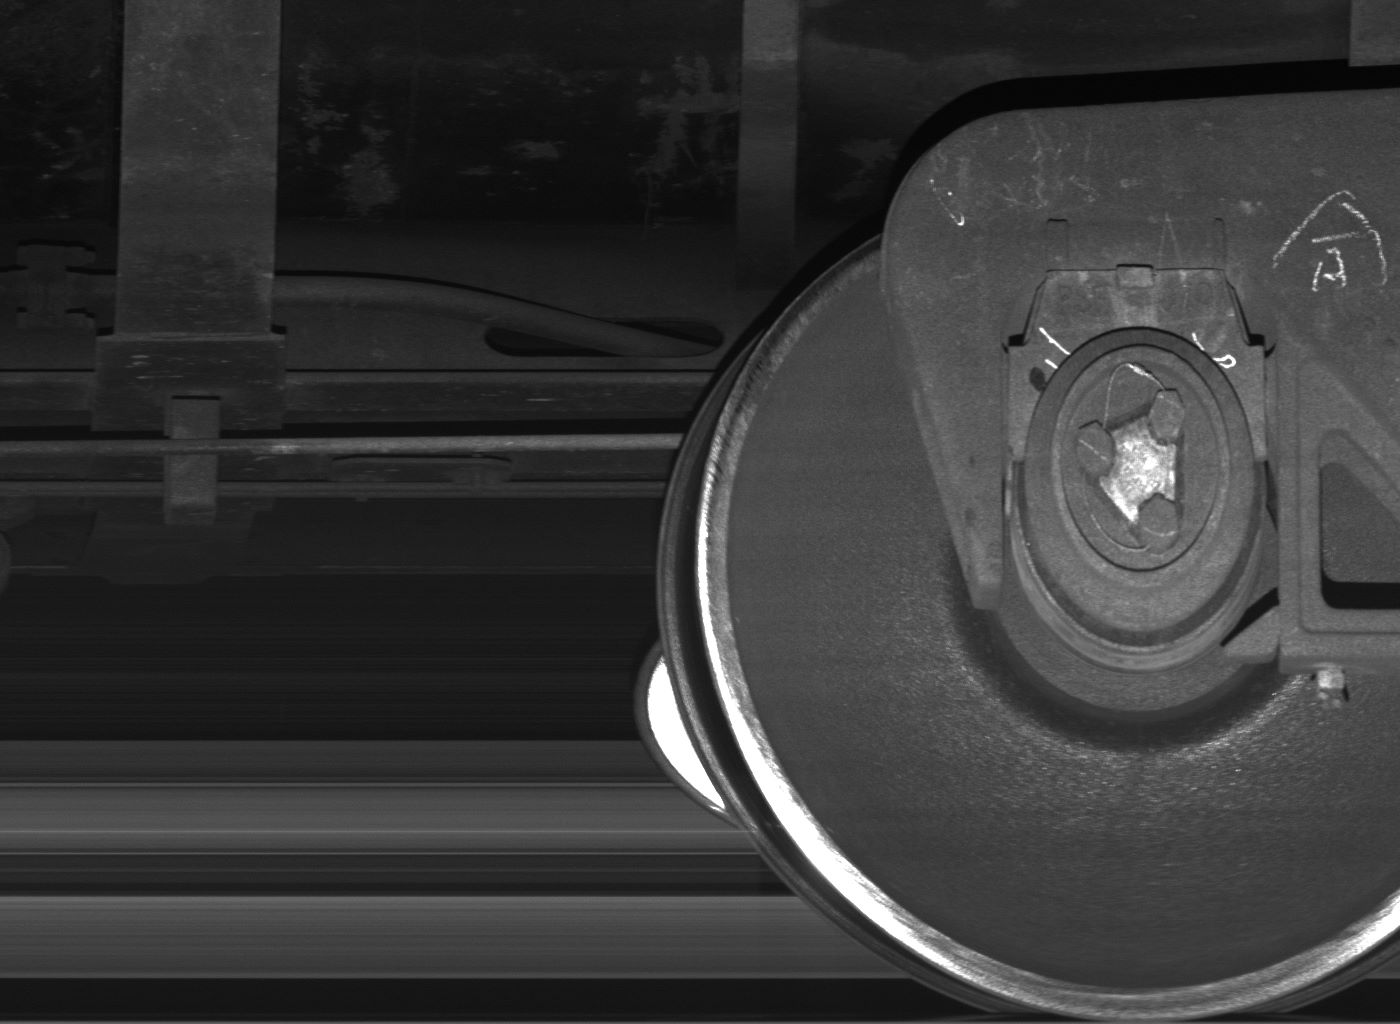Upper lever: (163, 398, 221, 524)
